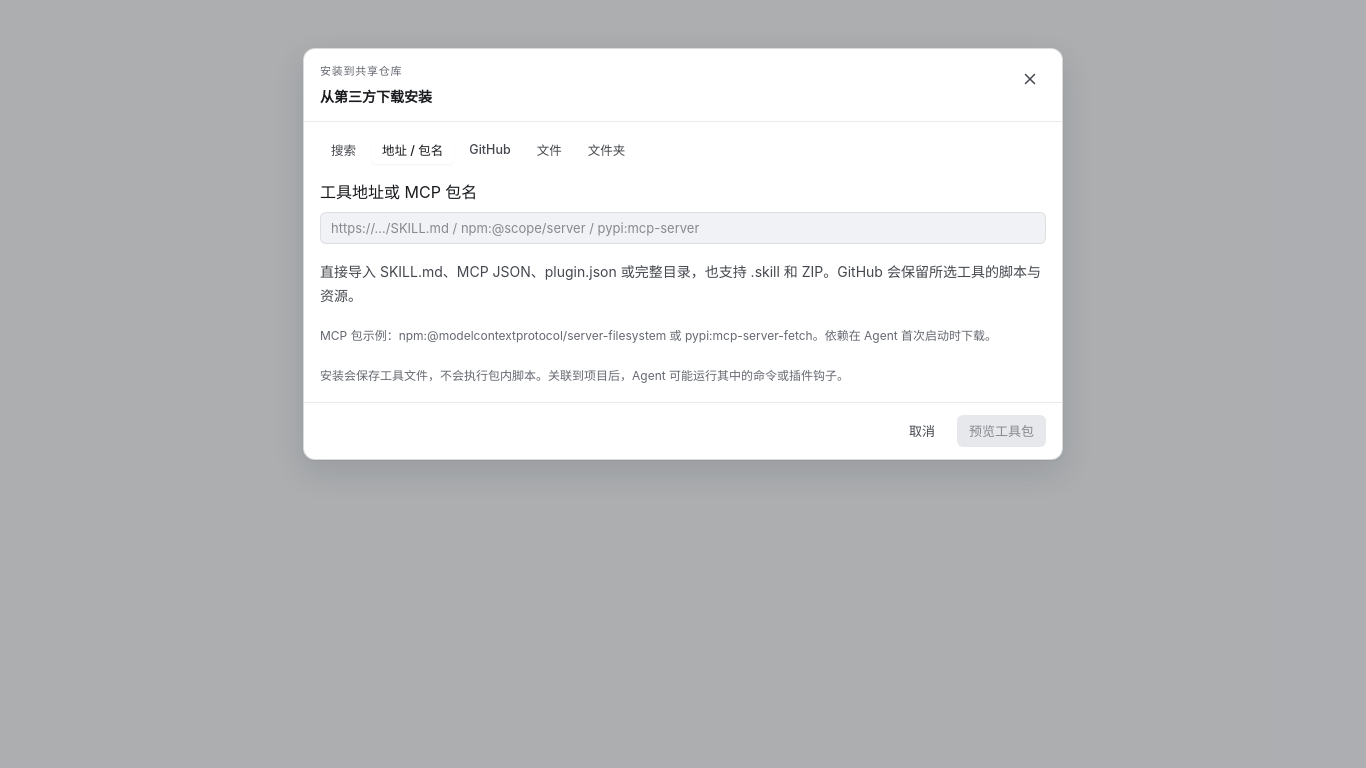
Test: tool installation dialog › disables conflicting installs and allows selecting a different URL
In the field labelled "工具地址或 MCP 包名": (683, 228) [320,212,1046,244], type "https://example.com/tools.zip"
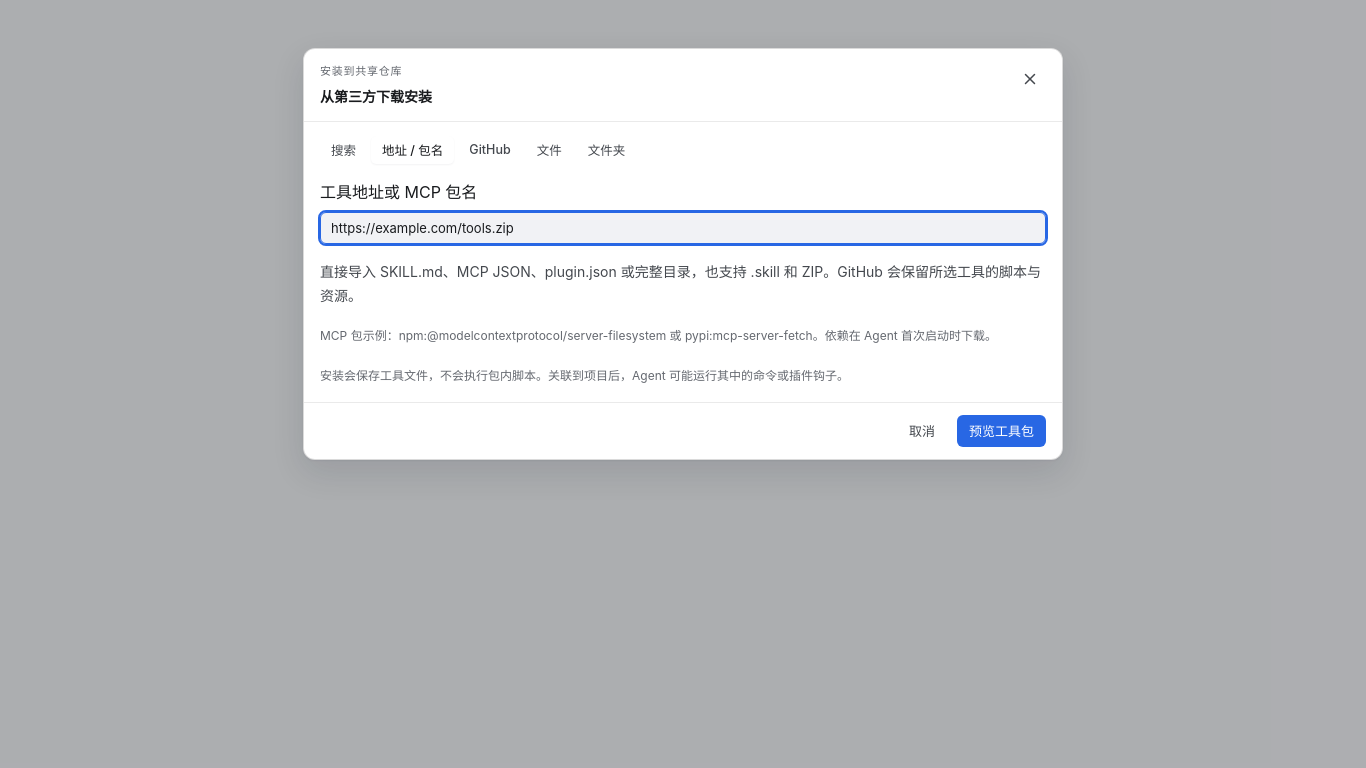
Click the button "预览工具包": (1002, 430) [957,414,1046,446]
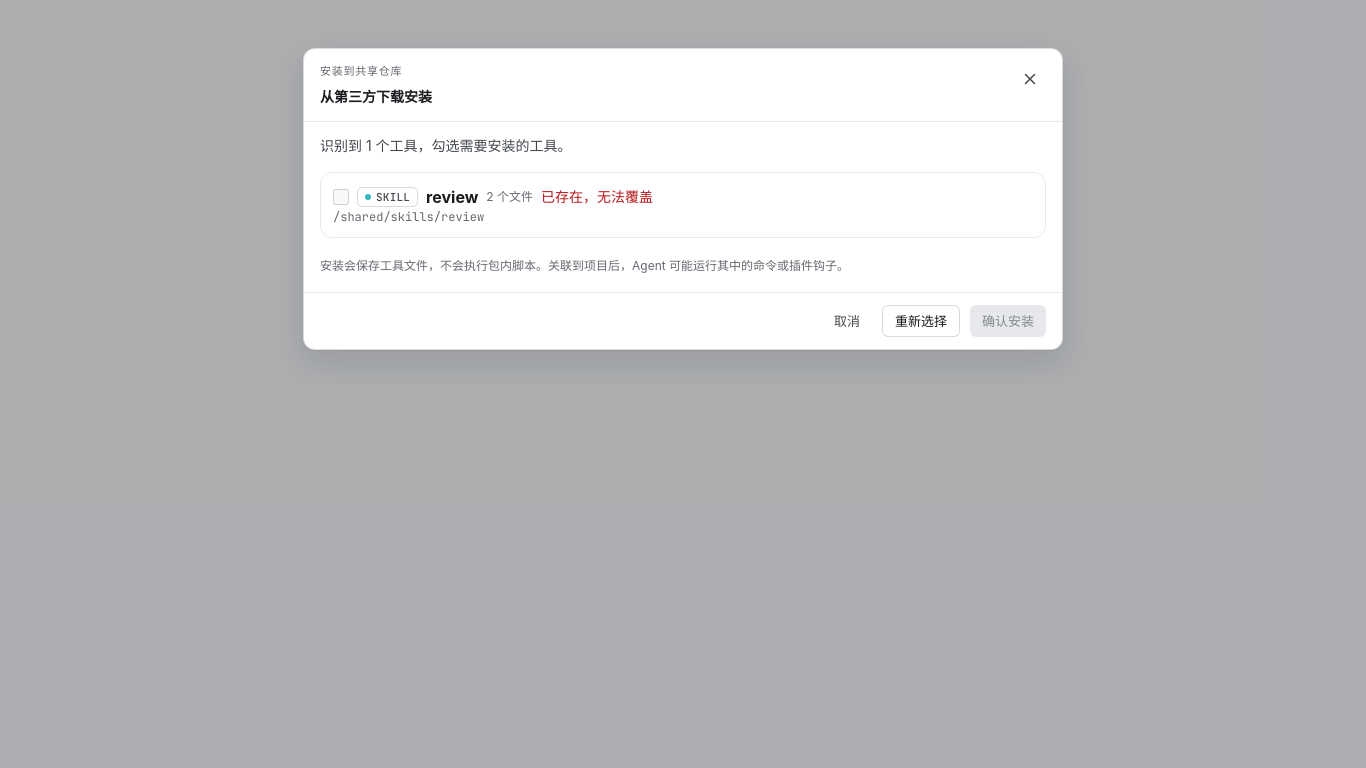
Check: the text "已存在，无法覆盖" is shown, box [541,186,653,206]
Check: the button "确认安装" is disabled, box [970,304,1046,336]
Click the button "重新选择": (921, 320) [882,304,960,336]
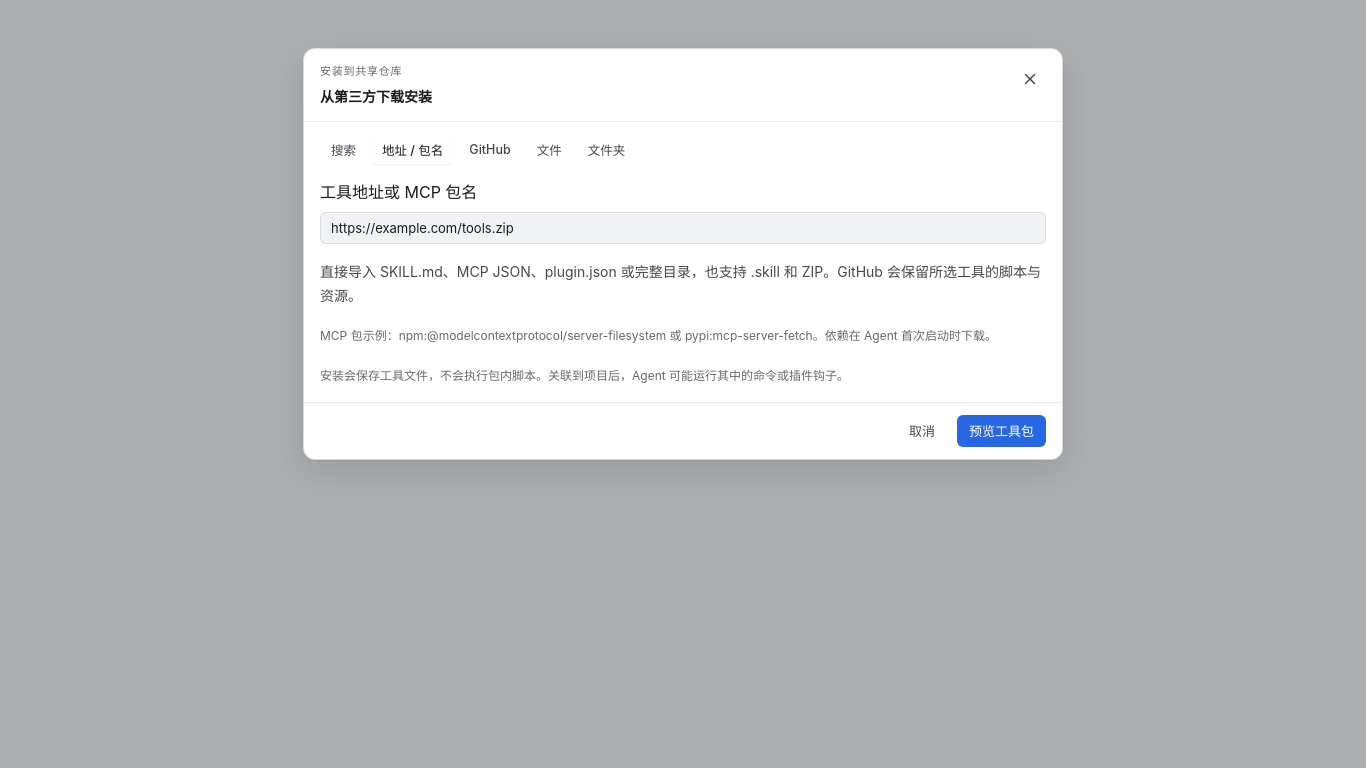
Check: the field labelled "工具地址或 MCP 包名" is shown, box [320,212,1046,244]
